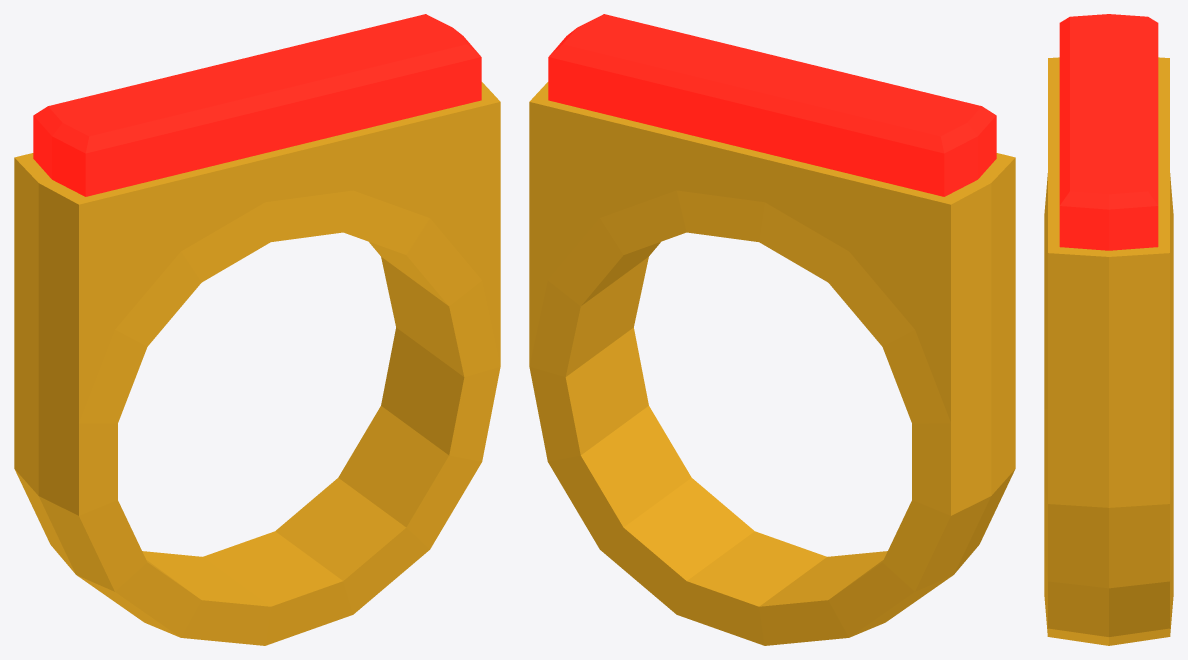
File: ring3.glb
3 renders of one model, left to right at view 1: azimuth 30°, elevation 25°; view 2: azimuth 150°, elevation 25°; view 3: azimuth 270°, elevation 25°, orthographic. The views are drawn at different scales.
Parts seen in each view (by area): view 1: Ring3; view 2: Ring3; view 3: Ring3.
Boxes of the visible parts, bbox=[...] form: Ring3: bbox=[14, 14, 500, 645]; Ring3: bbox=[529, 14, 1015, 645]; Ring3: bbox=[1044, 14, 1173, 645].
Size of the model in its own units: 66.93 by 80.25 by 18.04.
